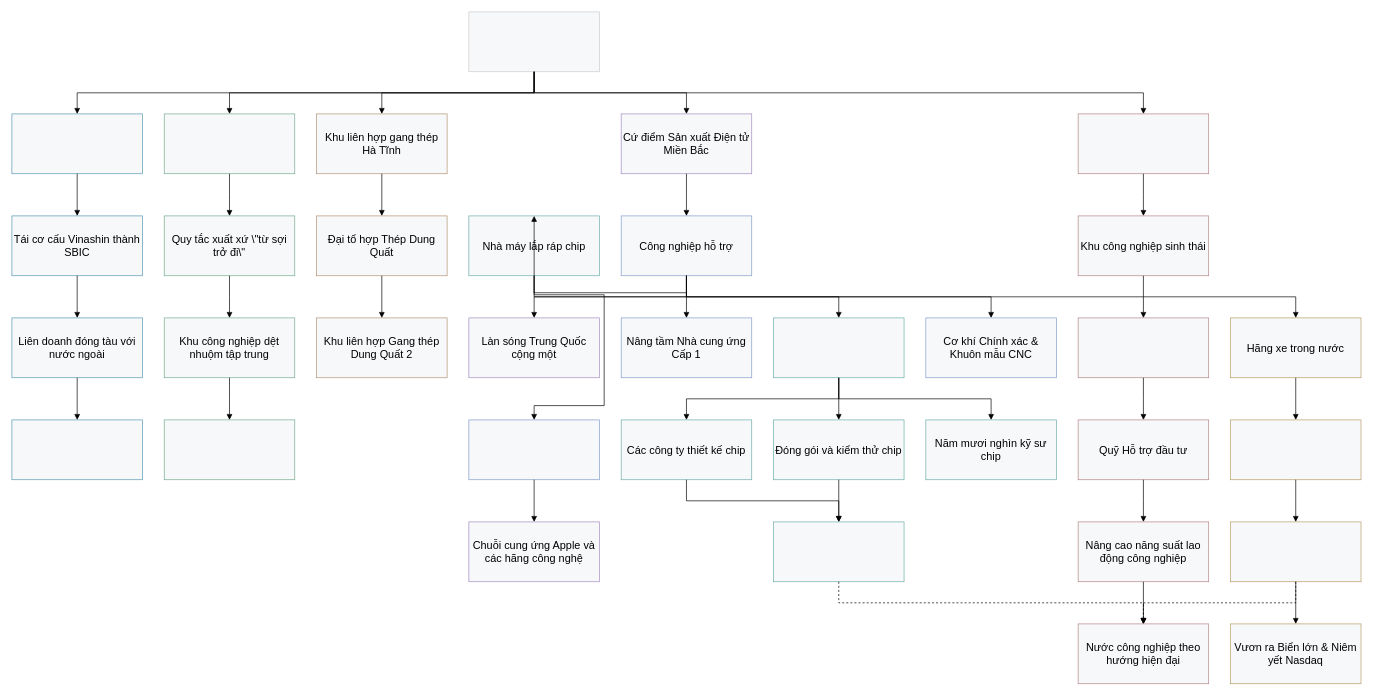
Some shapes in this 1373 by 696 pixel diagram are drawn without their labels. The shapes that lost their labels are listed below. From the top down, each one's centre as x and y in pixels, then its label:
At [533,41]: "Công nghiệp hóa - Hiện đại hóa".
At [76,143]: "Công nghiệp Đóng tàu Vinashin".
At [229,143]: "Dệt may và Da giày xuất khẩu".
At [1143,143]: "Chính sách công nghiệp quốc gia (NQ 23)".
At [838,347]: "Bán dẫn và AI".
At [1143,347]: "Đẩy mạnh công nghiệp hóa đến 2045 (NQ 29)".
At [76,449]: "Chế tạo kết cấu điện gió ngoài khơi".
At [229,449]: "Dệt may xanh theo chuẩn châu Âu".
At [533,449]: "Công xưởng Đông Nam Á".
At [1295,449]: "Tổ hợp Phụ trợ Ô tô Tích hợp".
At [838,551]: "Nhà máy chế tạo chip đầu tiên".
At [1295,551]: "Cách mạng Xe điện & Tổ hợp Pin VinES".
